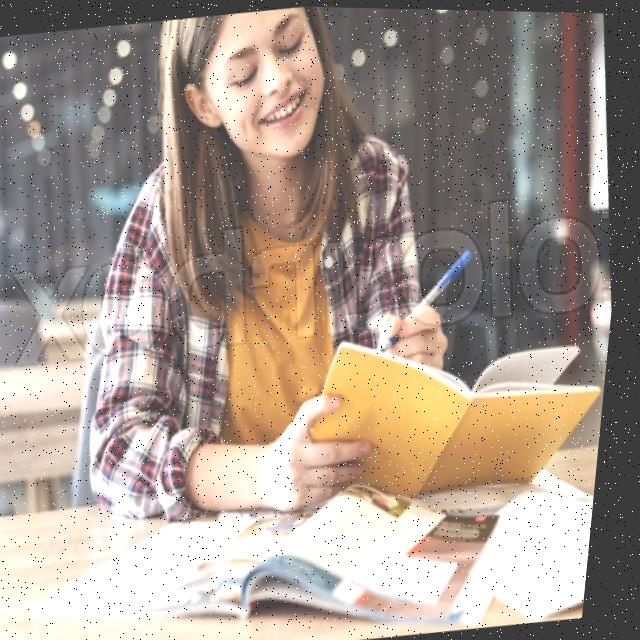studying-person: (35, 1, 640, 528)
